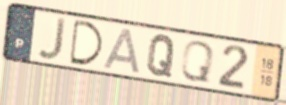2: (216, 44, 252, 93)
A: (102, 26, 144, 76)
D: (69, 18, 106, 68)
J: (35, 16, 68, 62)
Q: (178, 39, 216, 85), (145, 33, 178, 80)
